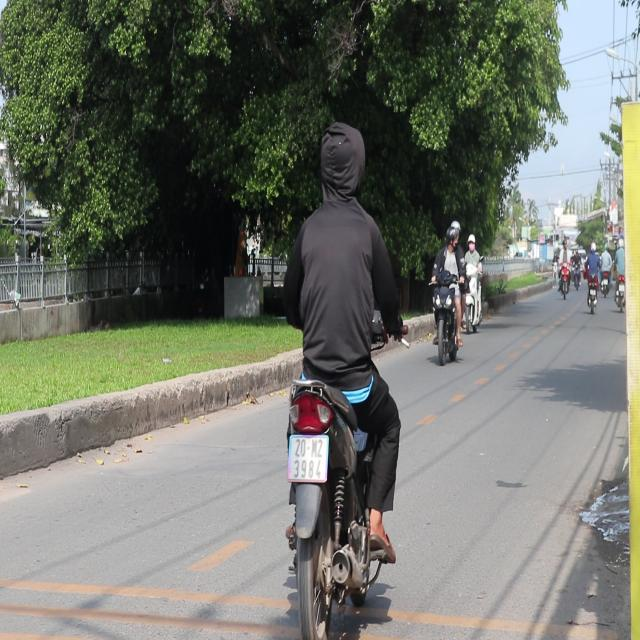helmet: (317, 122, 365, 205), (446, 220, 458, 248)
licenseplate: (273, 121, 407, 638), (428, 220, 465, 364)
nohelmet: (288, 435, 328, 481)
